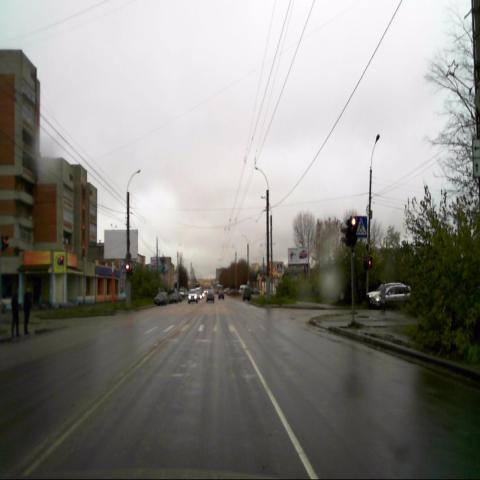5_19_1: (355, 216, 367, 237)
